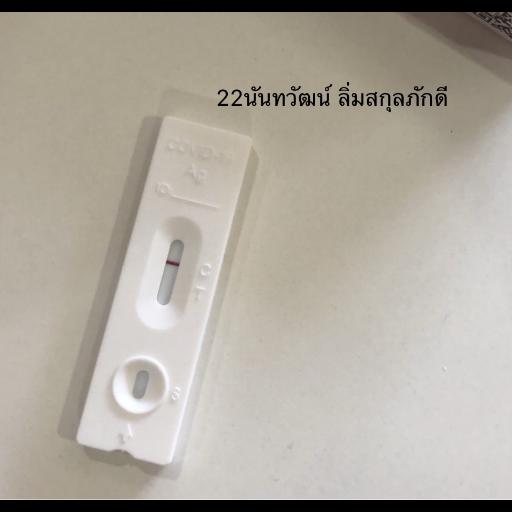Neg: (75, 111, 253, 468)
